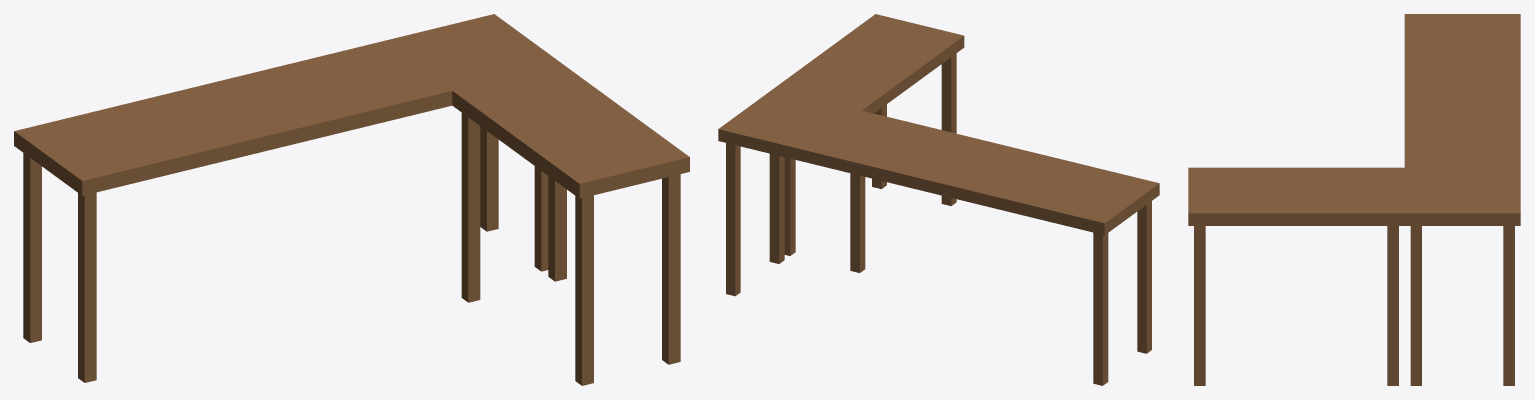
Rendered from desk.glb.
3 renders of one model, left to right at view 1: azimuth 30°, elevation 25°; view 2: azimuth 150°, elevation 25°; view 3: azimuth 270°, elevation 25°, orthographic. The views are drawn at different scales.
Parts seen in each view (by area): view 1: REF-L06-R01-desk-part-1, REF-L06-R01-desk-part-6, REF-L06-R01-desk-part-7, REF-L06-R01-desk-part-3, REF-L06-R01-desk-part-8, REF-L06-R01-desk-part-10, REF-L06-R01-desk-part-2, REF-L06-R01-desk-part-9, REF-L06-R01-desk-part-4, REF-L06-R01-desk-part-5; view 2: REF-L06-R01-desk-part-1, REF-L06-R01-desk-part-6, REF-L06-R01-desk-part-2, REF-L06-R01-desk-part-4, REF-L06-R01-desk-part-3, REF-L06-R01-desk-part-5, REF-L06-R01-desk-part-7, REF-L06-R01-desk-part-8, REF-L06-R01-desk-part-9; view 3: REF-L06-R01-desk-part-1, REF-L06-R01-desk-part-6, REF-L06-R01-desk-part-4, REF-L06-R01-desk-part-5, REF-L06-R01-desk-part-9, REF-L06-R01-desk-part-10.
Boxes of the visible parts, x1,y1,x2,y2 form: REF-L06-R01-desk-part-1: (14,14,561,195); REF-L06-R01-desk-part-6: (452,64,689,198); REF-L06-R01-desk-part-7: (461,113,480,302); REF-L06-R01-desk-part-3: (78,192,96,382); REF-L06-R01-desk-part-8: (575,195,593,385); REF-L06-R01-desk-part-10: (662,174,680,364); REF-L06-R01-desk-part-2: (23,153,41,342); REF-L06-R01-desk-part-9: (548,176,566,281); REF-L06-R01-desk-part-4: (480,126,498,231); REF-L06-R01-desk-part-5: (534,166,548,271); REF-L06-R01-desk-part-1: (718,89,1159,235); REF-L06-R01-desk-part-6: (773,14,964,113); REF-L06-R01-desk-part-2: (1093,232,1108,385); REF-L06-R01-desk-part-4: (726,143,740,296); REF-L06-R01-desk-part-3: (1137,201,1151,353); REF-L06-R01-desk-part-5: (769,153,784,263); REF-L06-R01-desk-part-7: (850,173,865,272); REF-L06-R01-desk-part-8: (941,53,956,205); REF-L06-R01-desk-part-9: (784,157,795,255); REF-L06-R01-desk-part-1: (1404,14,1520,225); REF-L06-R01-desk-part-6: (1188,167,1404,225); REF-L06-R01-desk-part-4: (1503,226,1514,385); REF-L06-R01-desk-part-5: (1410,226,1421,385); REF-L06-R01-desk-part-9: (1387,226,1398,385); REF-L06-R01-desk-part-10: (1194,226,1205,385).
Size of the model in its own units: 0.61 by 0.25 by 0.43.
